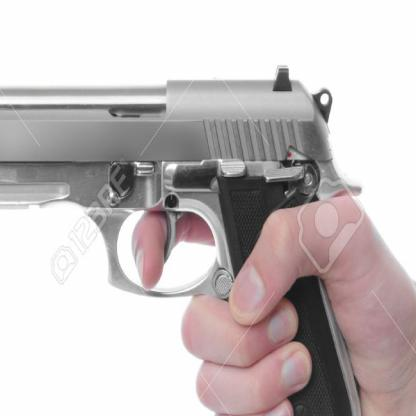gun: (0, 53, 372, 415)
